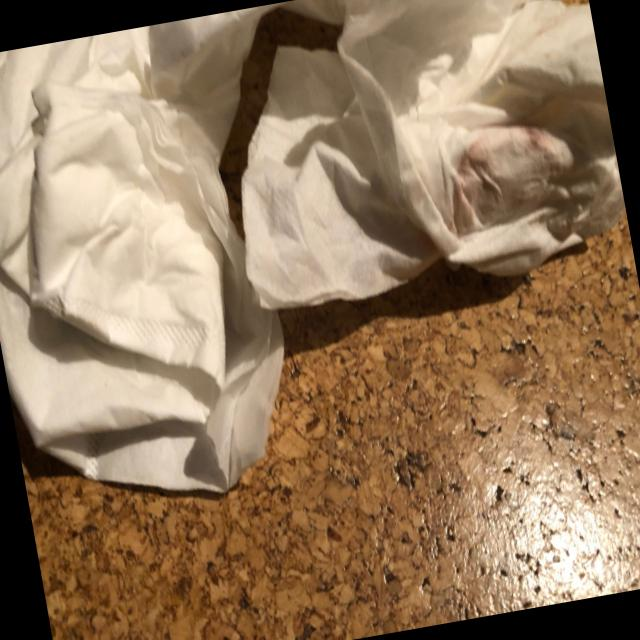organic waste: (0, 53, 308, 544), (208, 0, 634, 323), (338, 0, 633, 297), (0, 4, 298, 218)
